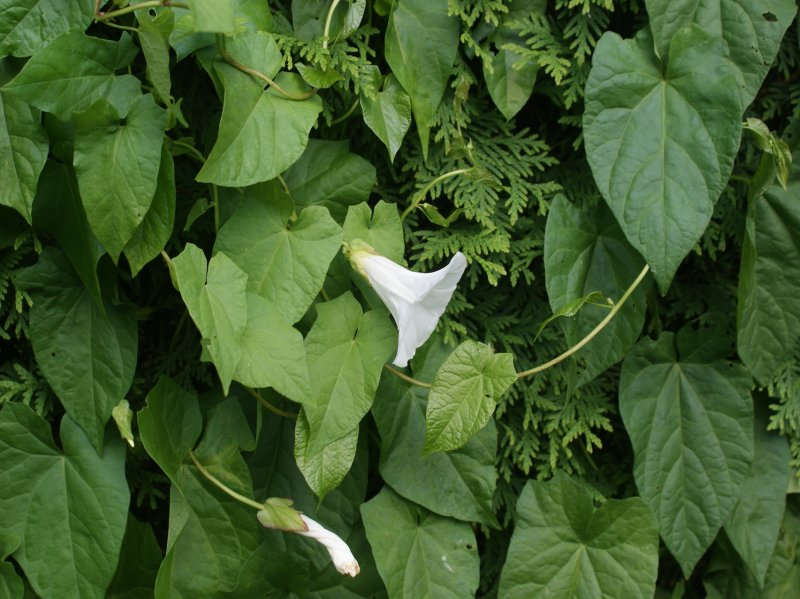haagwinde: (570, 16, 753, 317), (615, 334, 770, 578), (27, 261, 153, 455), (328, 229, 478, 383), (68, 63, 176, 272), (166, 238, 264, 403), (226, 479, 372, 589), (416, 331, 514, 454)
